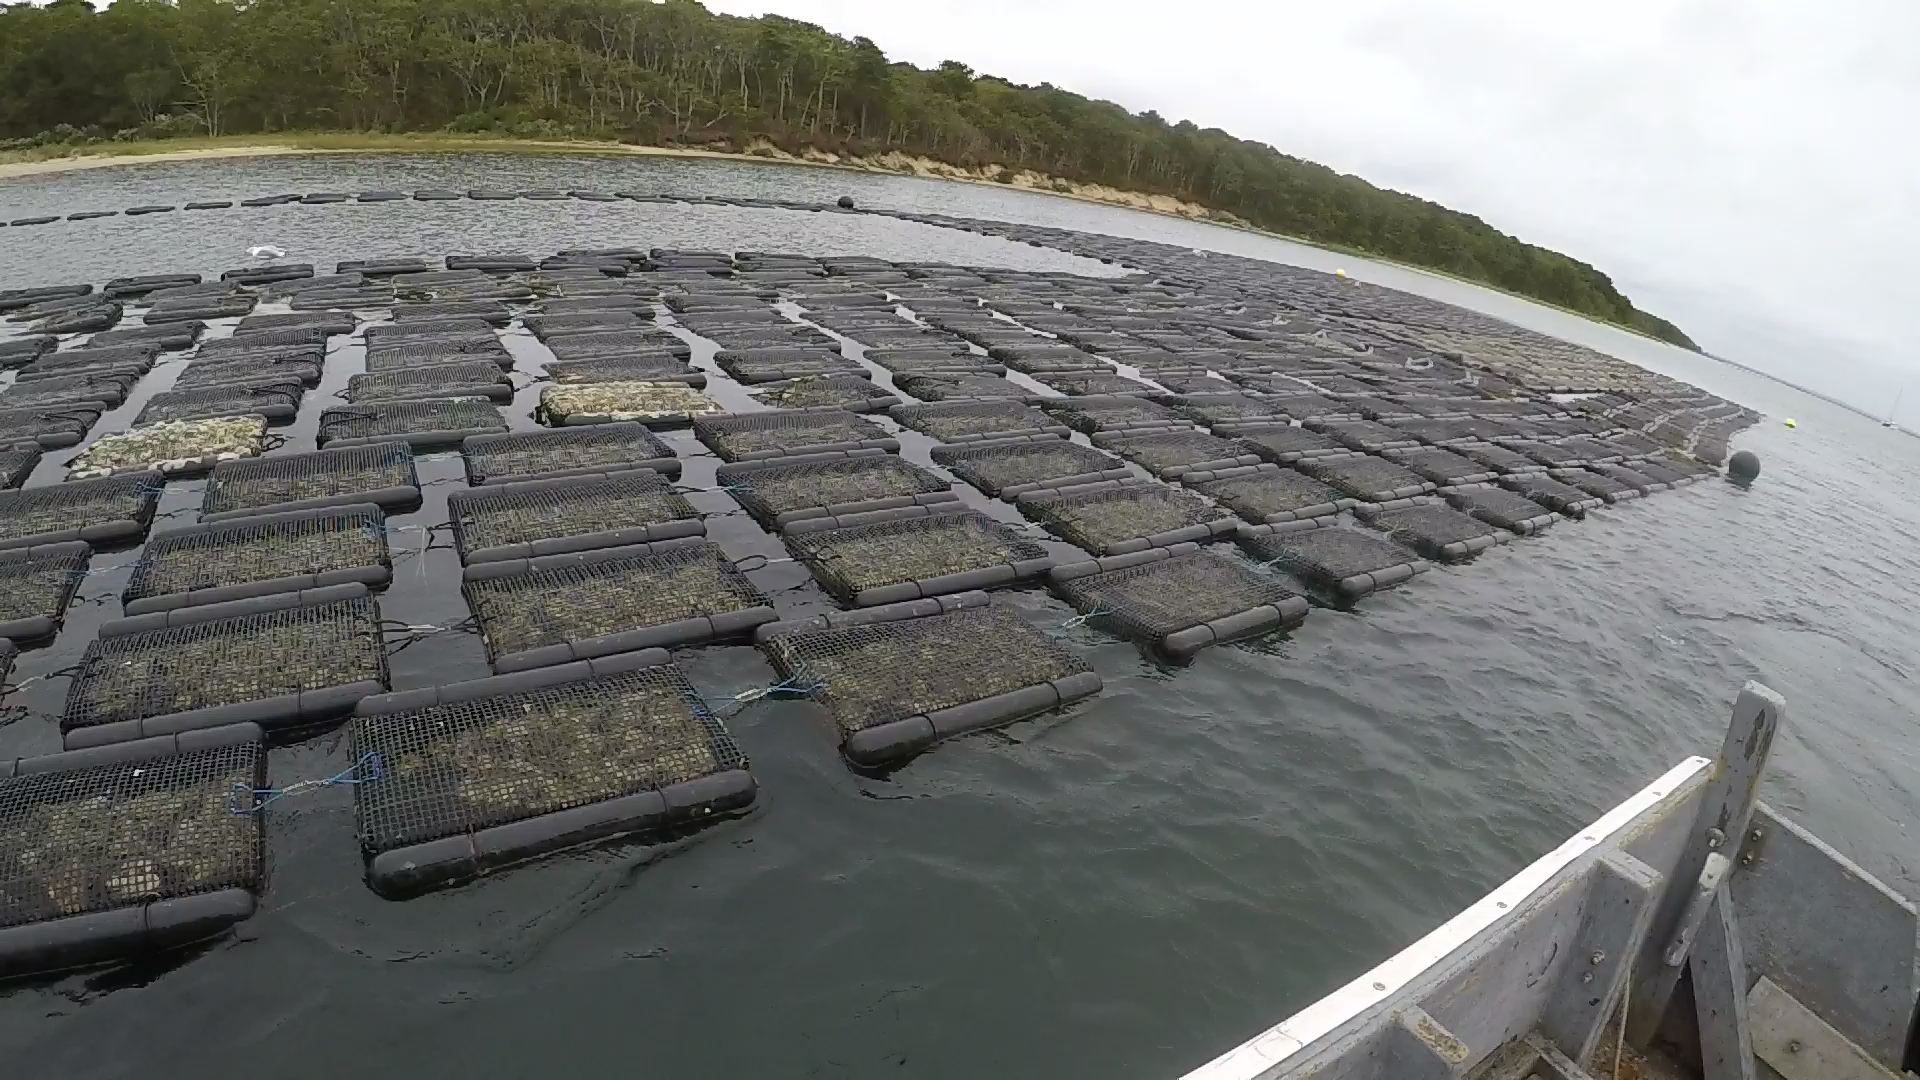bag: (356, 640, 757, 893), (1, 717, 272, 957), (752, 585, 1101, 767), (1044, 535, 1317, 663), (67, 407, 274, 481)
